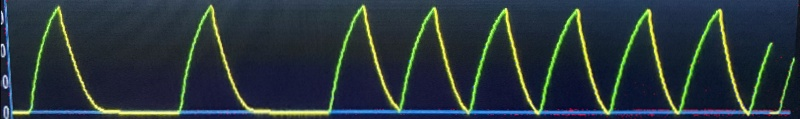normal_volume: (15, 0, 759, 117)
